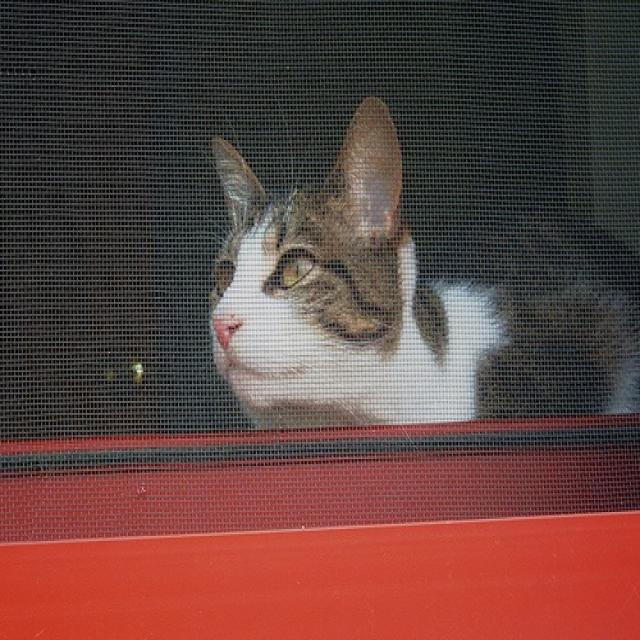cat: (194, 90, 638, 422)
